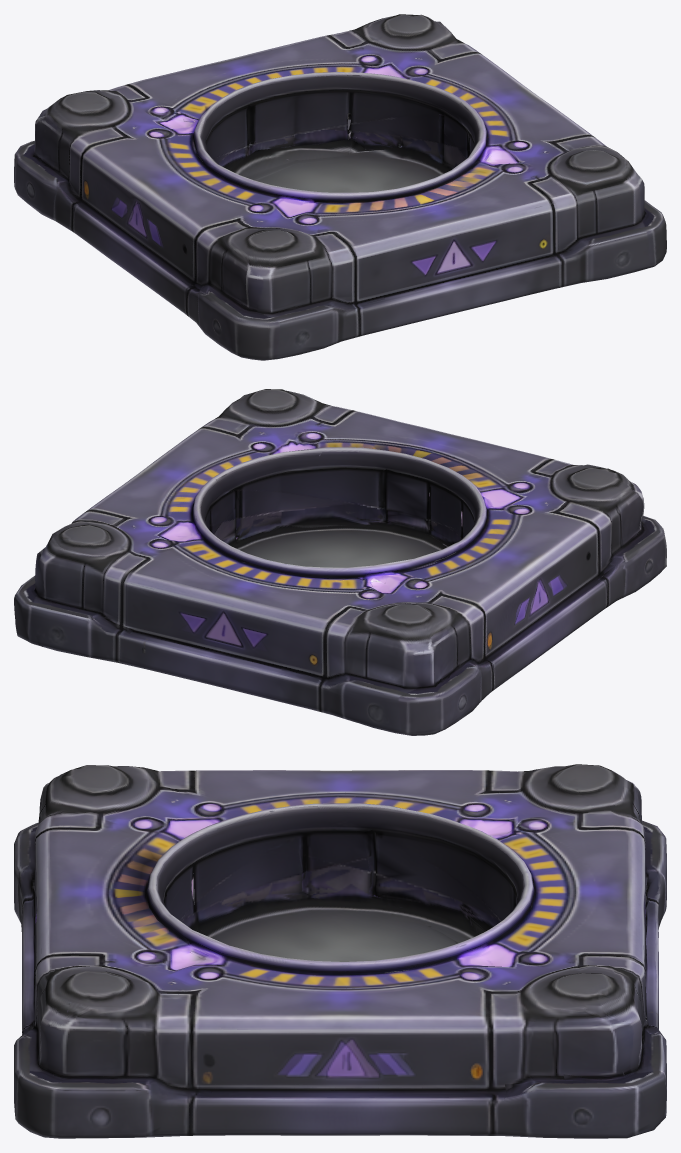
The model's file is Meshy_AI_gate_button_0108132108_texture.fbx.
The picture shows the model from 3 angles, top to bottom: view 1: azimuth 30°, elevation 25°; view 2: azimuth 150°, elevation 25°; view 3: azimuth 270°, elevation 25°; orthographic projection. The views are drawn at different scales.
Parts seen in each view (by area): view 1: Mesh0; view 2: Mesh0; view 3: Mesh0.
Part boxes in pixels (x1,y1,x2,y2): Mesh0: [14, 14, 666, 360]; Mesh0: [14, 389, 666, 735]; Mesh0: [14, 764, 666, 1138].
Size of the model in its own units: 191 by 40.07 by 191.
Materials: 1 (1 with a texture image).
